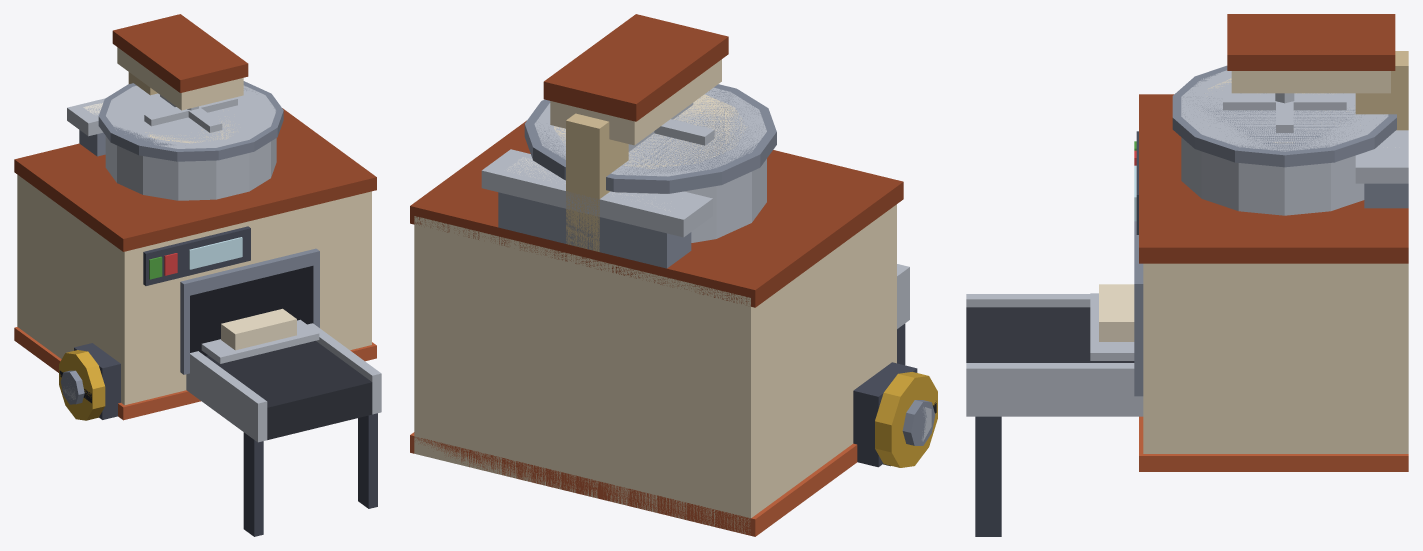
File: mixer-left.glb
3 views of the same model, side by side, from view 1: azimuth 30°, elevation 25°; view 2: azimuth 150°, elevation 25°; view 3: azimuth 270°, elevation 25° (orthographic). The views are drawn at different scales.
Visible parts, largest first — view 1: mixer-left, spin-x, spin-up; view 2: mixer-left, spin-x, spin-up; view 3: mixer-left, spin-up.
Boxes of the visible parts, x1,y1,x2,y2 form: mixer-left: [14, 14, 381, 536]; spin-x: [59, 350, 105, 420]; spin-up: [144, 95, 237, 132]; mixer-left: [410, 14, 931, 536]; spin-x: [875, 372, 937, 467]; spin-up: [628, 103, 714, 151]; mixer-left: [966, 14, 1408, 536]; spin-up: [1223, 93, 1346, 132].
Size of the model in its own units: 0.93 by 1.16 by 1.
3 materials, 3 textured.
